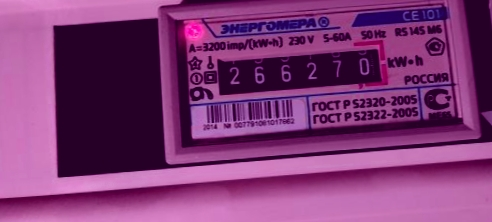0: (356, 57, 370, 78)
2: (225, 67, 241, 88), (303, 61, 318, 82)
6: (251, 65, 265, 87), (278, 64, 292, 85)
7: (329, 60, 342, 79)
screen: (206, 38, 393, 104)
